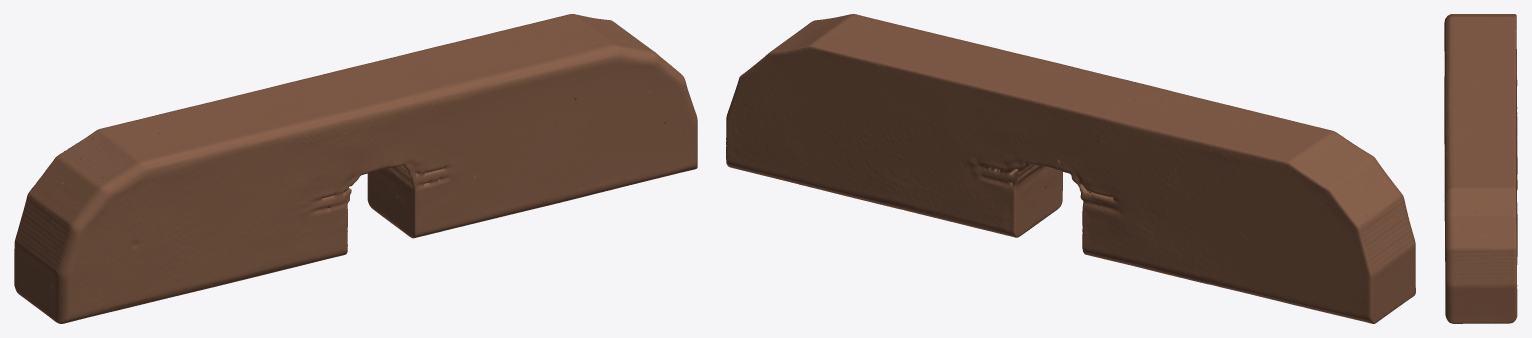
The model's file is 正心瓜拱.glb.
The picture shows the model from 3 angles, left to right: view 1: azimuth 30°, elevation 25°; view 2: azimuth 150°, elevation 25°; view 3: azimuth 270°, elevation 25°; orthographic projection. The views are drawn at different scales.
Parts seen in each view (by area): view 1: 正心瓜拱; view 2: 正心瓜拱; view 3: 正心瓜拱.
Boxes of the visible parts, bbox=[...] form: 正心瓜拱: bbox=[14, 14, 697, 323]; 正心瓜拱: bbox=[726, 14, 1415, 323]; 正心瓜拱: bbox=[1444, 14, 1517, 323].
Bounding box in the file's own units: 0.3733 × 0.0804 × 0.05.
